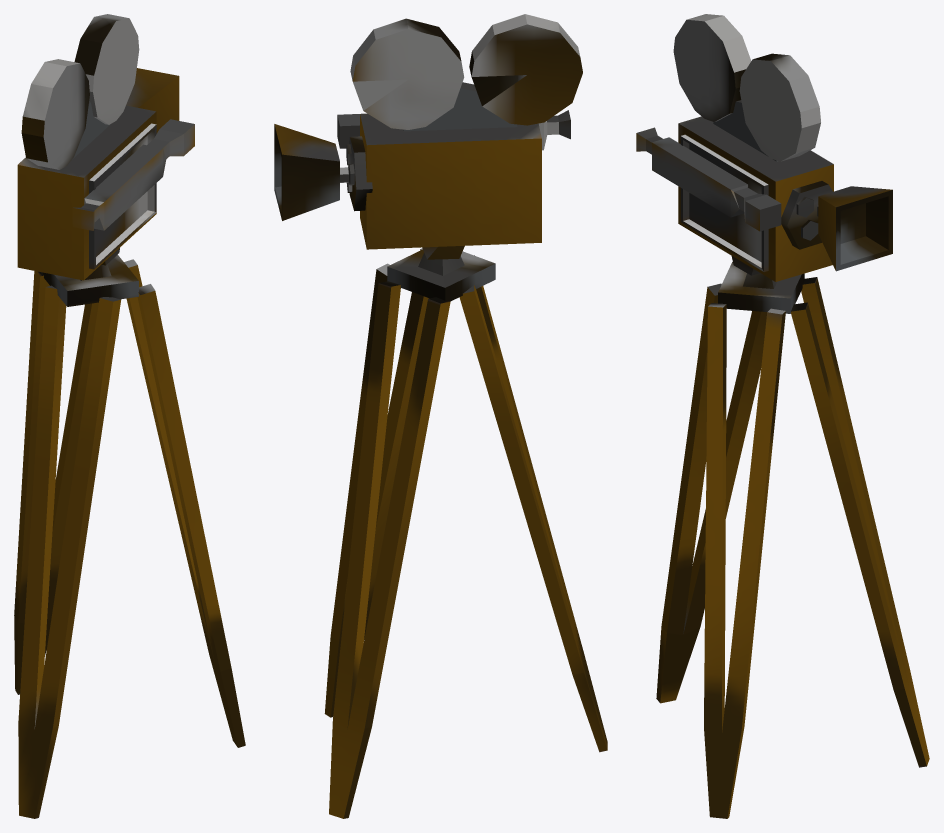
File: tripod_9.obj
The picture shows the model from 3 angles, left to right: view 1: azimuth 30°, elevation 25°; view 2: azimuth 150°, elevation 25°; view 3: azimuth 270°, elevation 25°; orthographic projection. The views are drawn at different scales.
Parts seen in each view (by area): view 1: Object_0; view 2: Object_0; view 3: Object_0.
Boxes of the visible parts, x1,y1,x2,y2 form: Object_0: (14, 14, 245, 818); Object_0: (274, 14, 607, 818); Object_0: (636, 14, 929, 818).
Bounding box in the file's own units: 5.58 × 15.51 × 5.8.
Materials: 1 (1 with a texture image).
